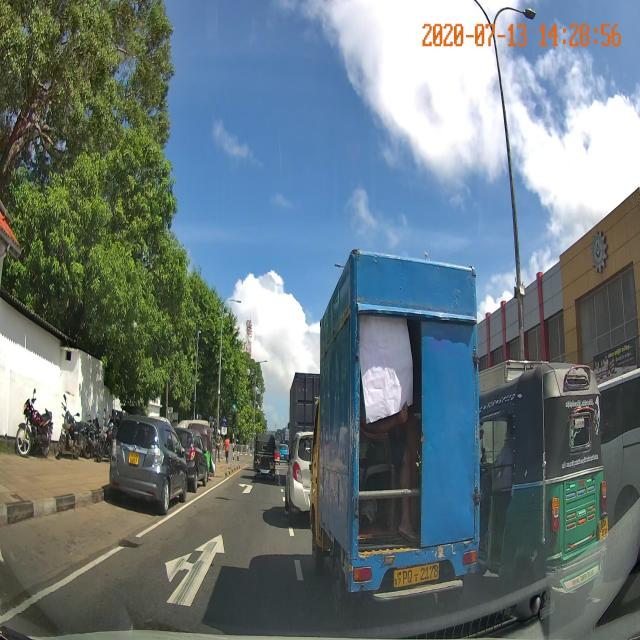forward_lft: (38, 511, 321, 630)
